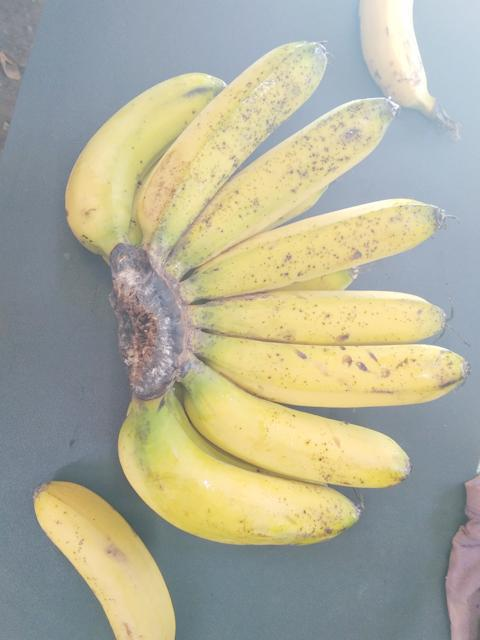ripe: (158, 84, 404, 282), (75, 401, 363, 550), (127, 39, 320, 228), (174, 192, 434, 321), (171, 368, 431, 495), (59, 70, 191, 284), (167, 326, 459, 416), (25, 476, 166, 633), (186, 274, 437, 348)
